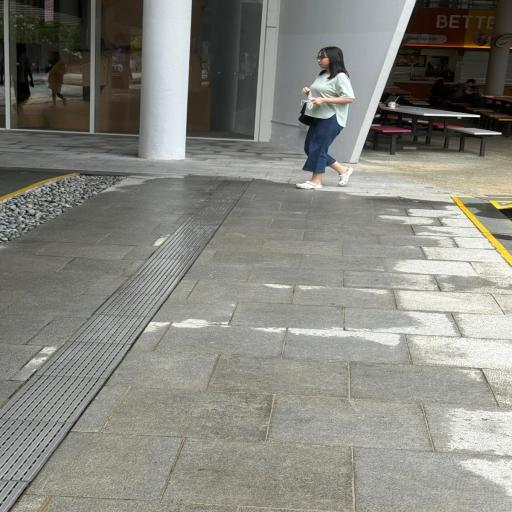person_left: (295, 46, 356, 190)
